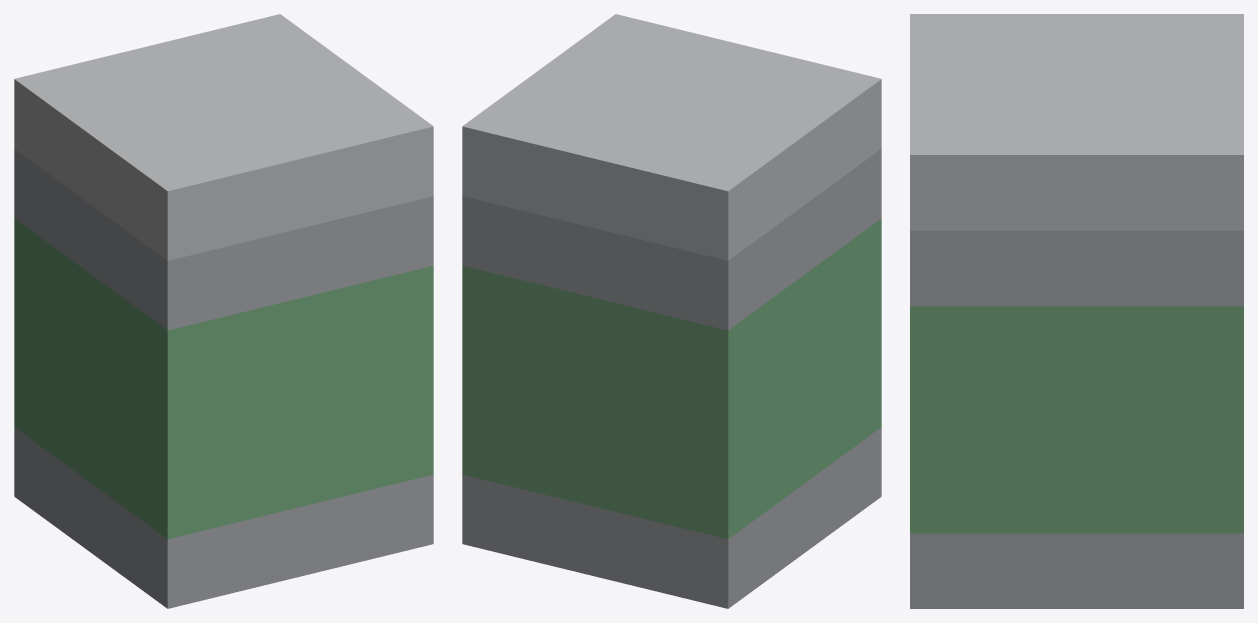
The model's file is conserve.glb.
3 renders of one model, left to right at view 1: azimuth 30°, elevation 25°; view 2: azimuth 150°, elevation 25°; view 3: azimuth 270°, elevation 25°, orthographic. The views are drawn at different scales.
Visible parts, largest first — view 1: main; view 2: main; view 3: main.
Part boxes in pixels (x1=…): main: x1=14, y1=14, x2=433, y2=608; main: x1=462, y1=14, x2=881, y2=608; main: x1=910, y1=14, x2=1243, y2=608.
Bounding box in the file's own units: 0.25 × 0.375 × 0.25.
